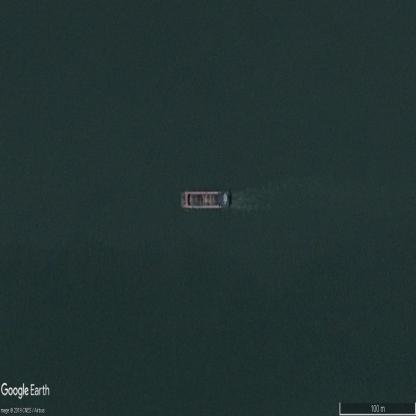ship: (181, 187, 233, 212)
